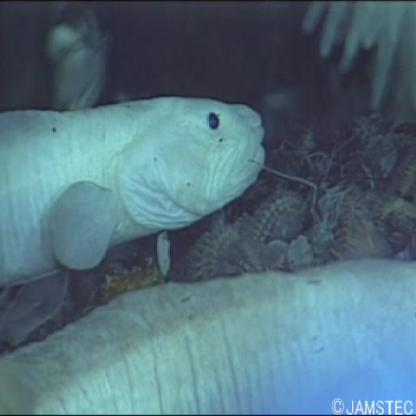Bio: (1, 87, 269, 294)
